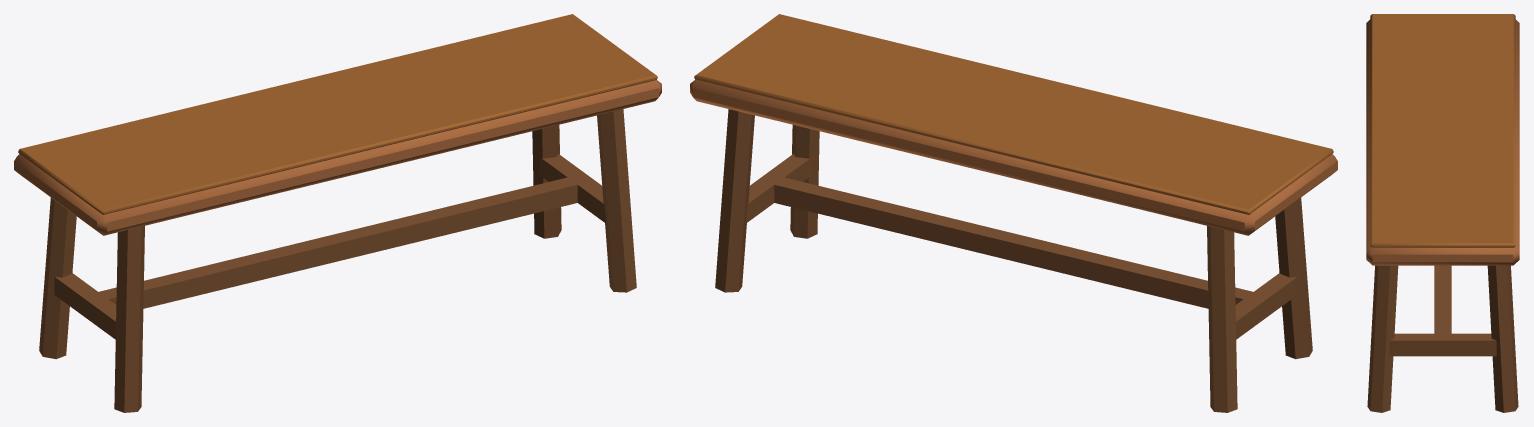
File: growth_bench.glb
3 renders of one model, left to right at view 1: azimuth 30°, elevation 25°; view 2: azimuth 150°, elevation 25°; view 3: azimuth 270°, elevation 25°, orthographic. The views are drawn at different scales.
Parts seen in each view (by area): view 1: growth_bench; view 2: growth_bench; view 3: growth_bench.
Boxes of the visible parts, x1=… form: growth_bench: x1=14, y1=14, x2=661, y2=412; growth_bench: x1=690, y1=14, x2=1337, y2=412; growth_bench: x1=1366, y1=14, x2=1519, y2=412.
Size of the model in its own units: 1.3 by 0.46 by 0.36.
1 material, 1 textured.
